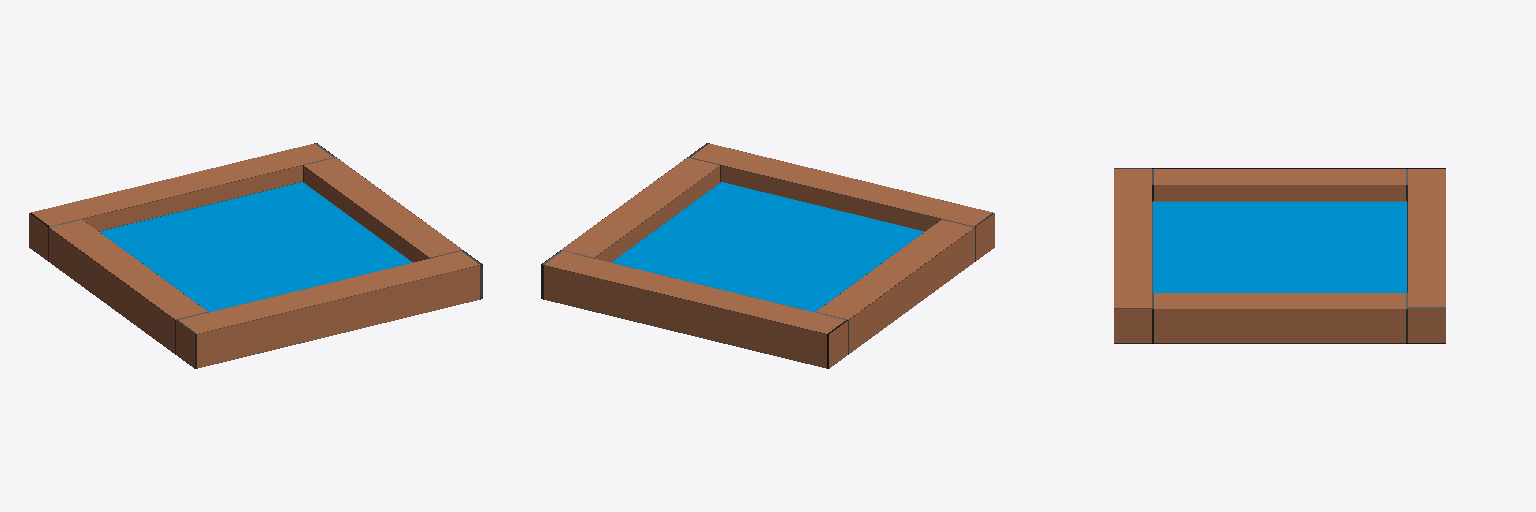
3 renders of one model, left to right at view 1: azimuth 30°, elevation 25°; view 2: azimuth 150°, elevation 25°; view 3: azimuth 270°, elevation 25°, orthographic.
Parts seen in each view (by area): view 1: Pressing, Cube.004, Cube.003, Cube.001, Cube.002; view 2: Pressing, Cube.003, Cube.004, Cube.001, Cube.002; view 3: Pressing, Cube.002, Cube.001, Cube.003, Cube.004.
Boxes of the visible parts, x1=… form: Pressing: x1=99, y1=182, x2=412, y2=311; Cube.004: x1=176, y1=250, x2=482, y2=368; Cube.003: x1=29, y1=143, x2=334, y2=260; Cube.001: x1=48, y1=219, x2=208, y2=354; Cube.002: x1=303, y1=157, x2=462, y2=262; Pressing: x1=611, y1=182, x2=924, y2=311; Cube.003: x1=541, y1=250, x2=847, y2=368; Cube.004: x1=689, y1=143, x2=994, y2=260; Cube.001: x1=815, y1=219, x2=975, y2=354; Cube.002: x1=561, y1=157, x2=720, y2=262; Pressing: x1=1152, y1=201, x2=1407, y2=292; Cube.002: x1=1152, y1=293, x2=1407, y2=343; Cube.001: x1=1152, y1=168, x2=1407, y2=200; Cube.003: x1=1408, y1=168, x2=1445, y2=343; Cube.004: x1=1114, y1=168, x2=1151, y2=343.
Size of the model in its own units: 2.6 by 0.3 by 2.6.
Materials: 5 (2 with a texture image).